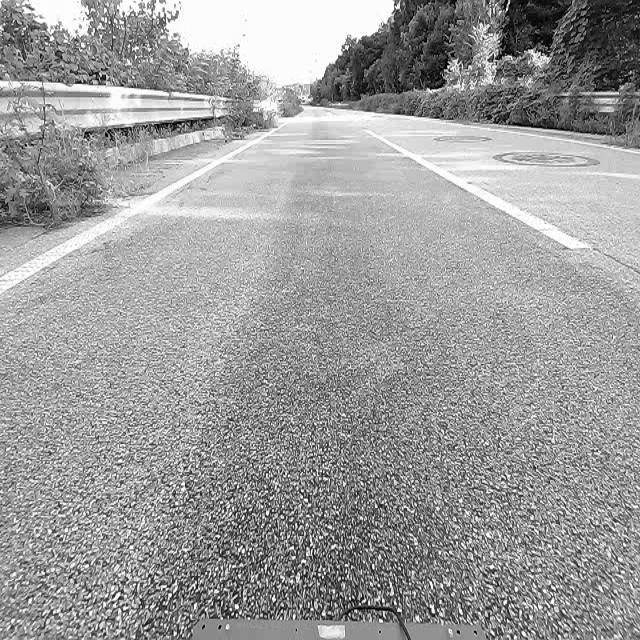Lane: (0, 115, 278, 302), (0, 130, 273, 297), (362, 123, 593, 257), (365, 130, 591, 250)
